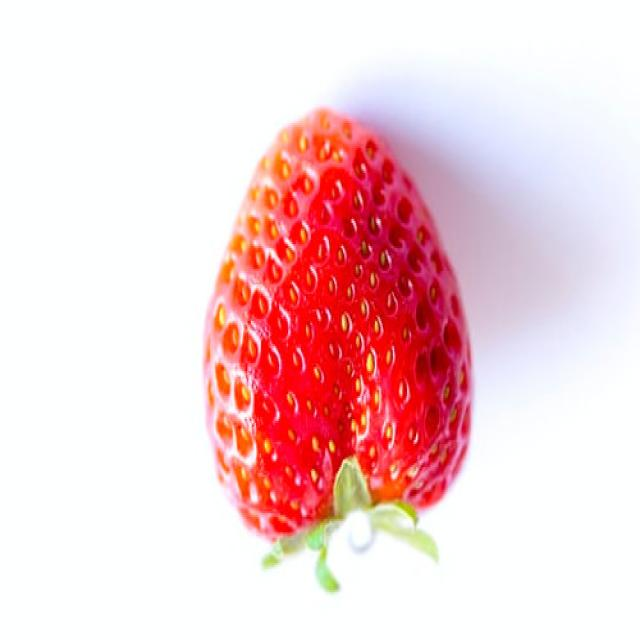mature: (200, 106, 477, 543)
